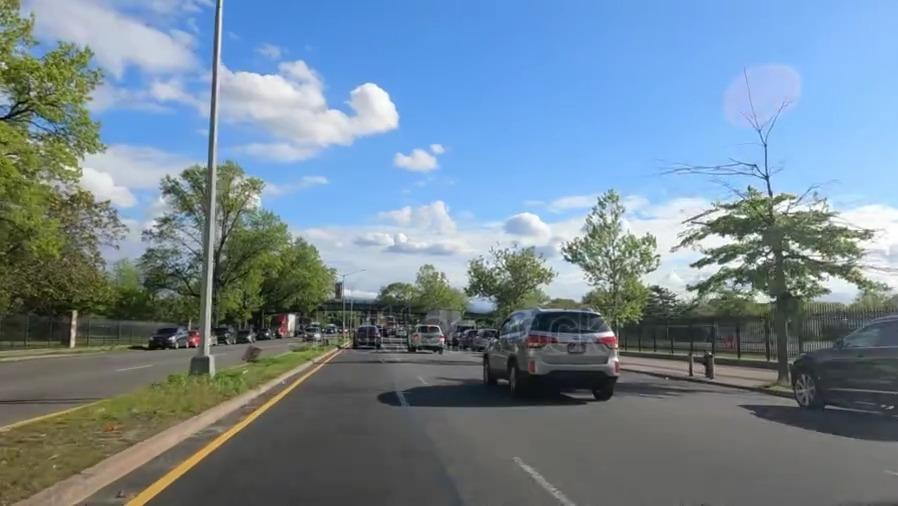car: (481, 307, 619, 397), (789, 313, 898, 412), (147, 327, 189, 355), (406, 323, 442, 351), (349, 325, 381, 349), (474, 328, 492, 347), (237, 326, 254, 345), (217, 325, 233, 343), (302, 326, 320, 341)
wheel: (793, 370, 819, 408)
